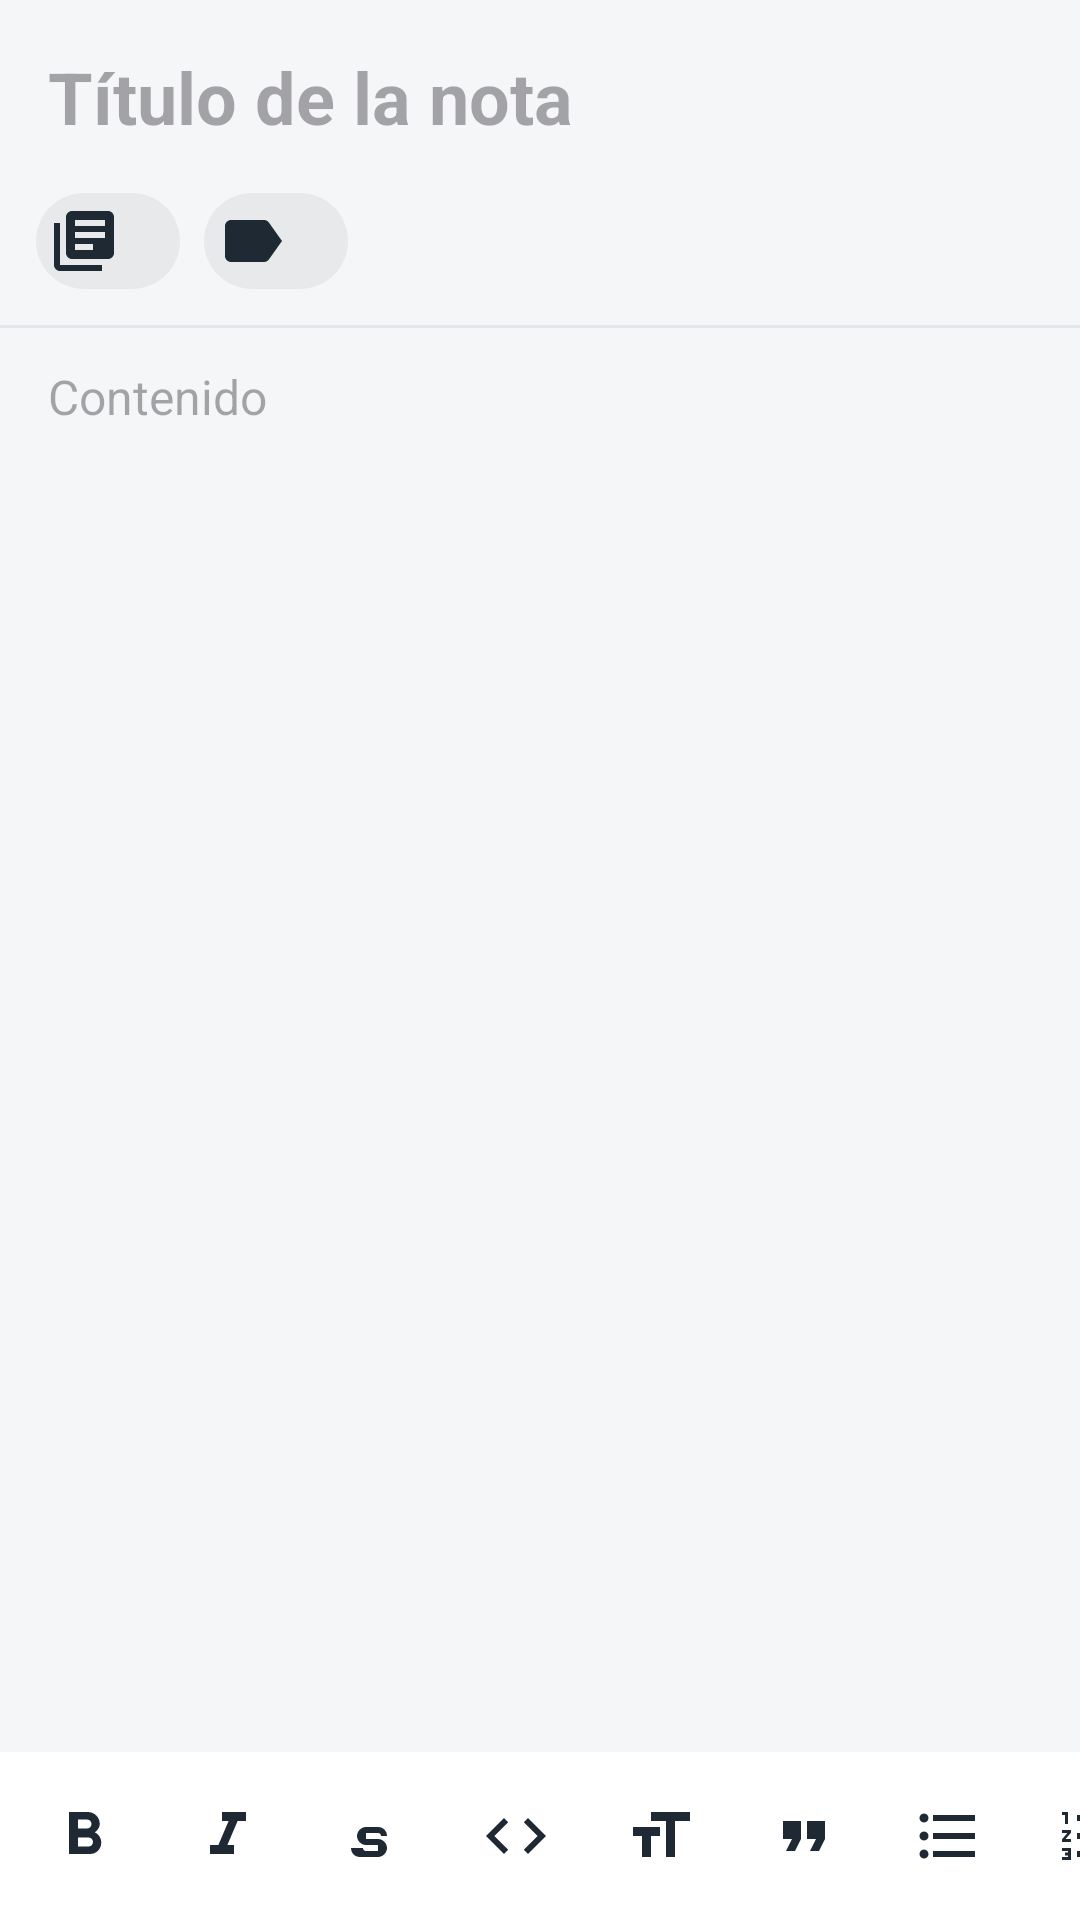

Screen size 1080x1920. Icon name, then its center in pixels as point (x, y):
Cita: point (804, 1836)
Cursiva: point (228, 1833)
Código: point (516, 1836)
Encabezado: point (661, 1834)
Negrita: point (85, 1833)
Tachado: point (369, 1842)
vinietas: point (947, 1836)
